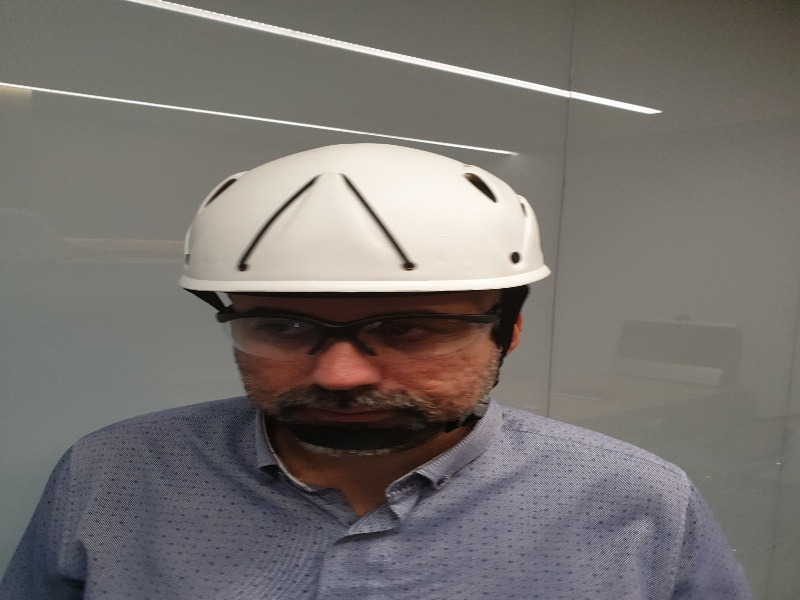Baret: (182, 142, 554, 294)
Gozluk: (214, 306, 506, 355)
